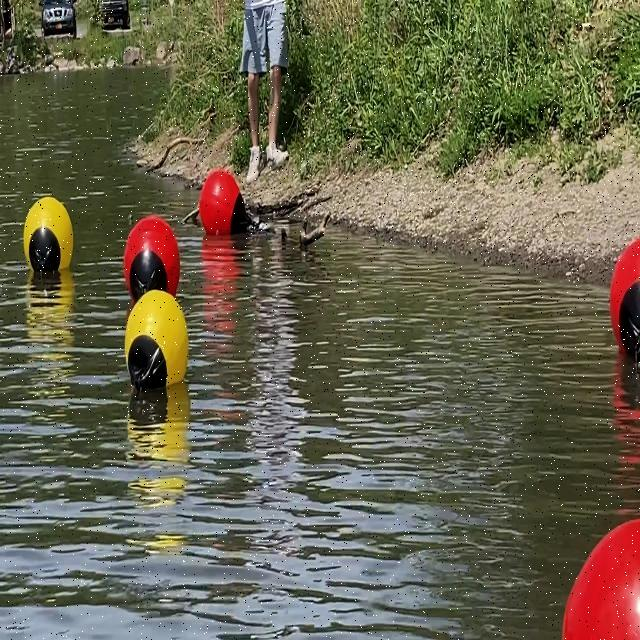buoy: (560, 518, 640, 639), (124, 288, 191, 394), (122, 212, 182, 304), (24, 194, 76, 280), (611, 226, 640, 366), (198, 166, 252, 240)
